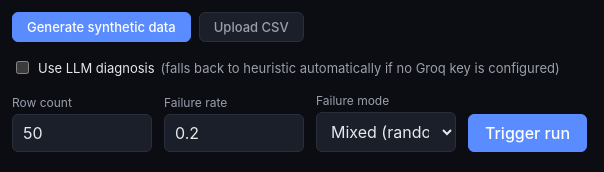
Test: TriggerRunForm › switches to the upload form and disables submit until a file is chosen
Click the button "Upload CSV" at (251, 27), box [199, 12, 304, 42]
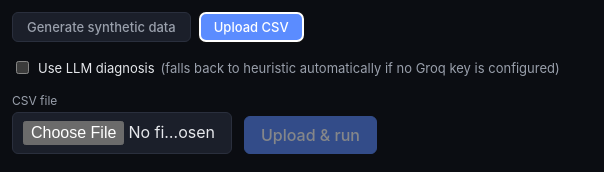
Expected: the file field labelled "CSV file" is shown, [12, 112, 232, 154]
Result: the label labelled "Row count" is gone
Result: the button "Upload & run" is disabled at [244, 116, 377, 154]
